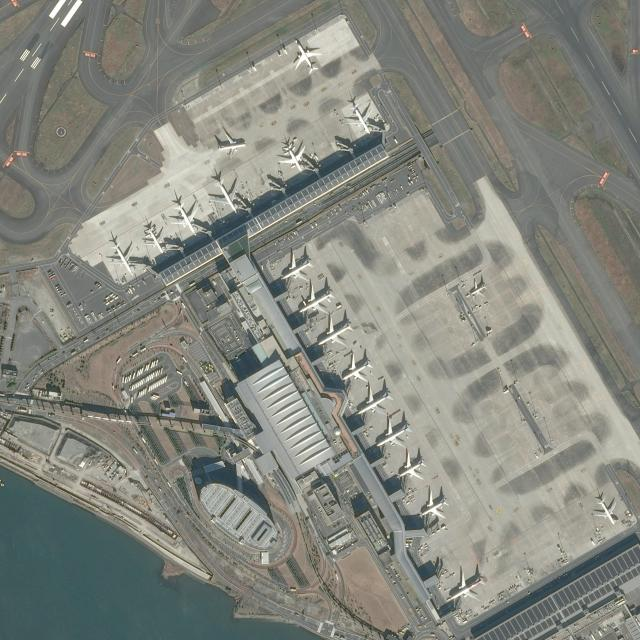aircraft: (447, 568, 488, 601), (374, 416, 412, 449), (315, 316, 353, 348), (278, 248, 313, 282), (298, 282, 332, 317), (356, 384, 393, 416), (208, 175, 239, 213), (292, 39, 322, 75), (169, 200, 199, 236), (418, 487, 450, 520), (342, 100, 373, 134), (340, 351, 372, 383), (106, 242, 136, 276), (394, 450, 428, 480), (276, 140, 306, 172), (215, 130, 247, 157), (141, 223, 166, 254), (593, 494, 617, 526), (466, 277, 486, 298)
